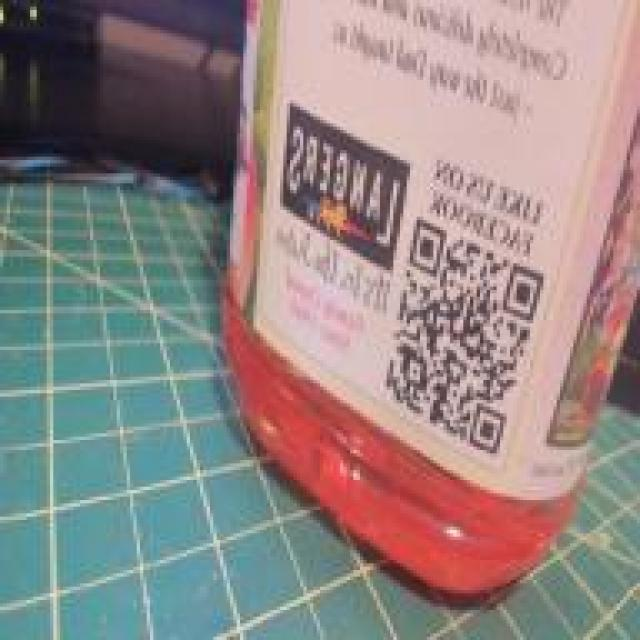QR_CODE: (374, 180, 554, 470)
